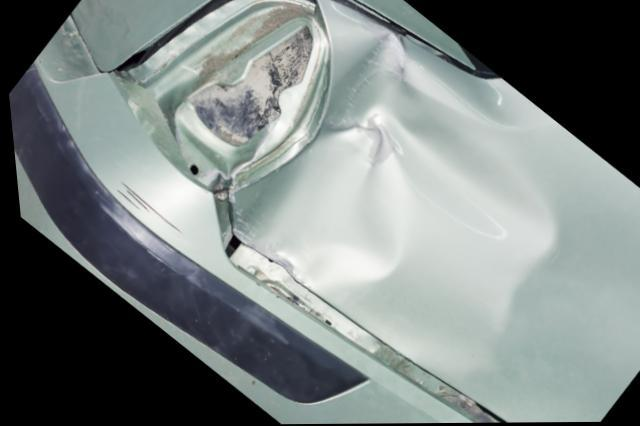dent: (222, 30, 548, 412)
no part: (117, 0, 330, 190)
scratch: (108, 181, 180, 242)
